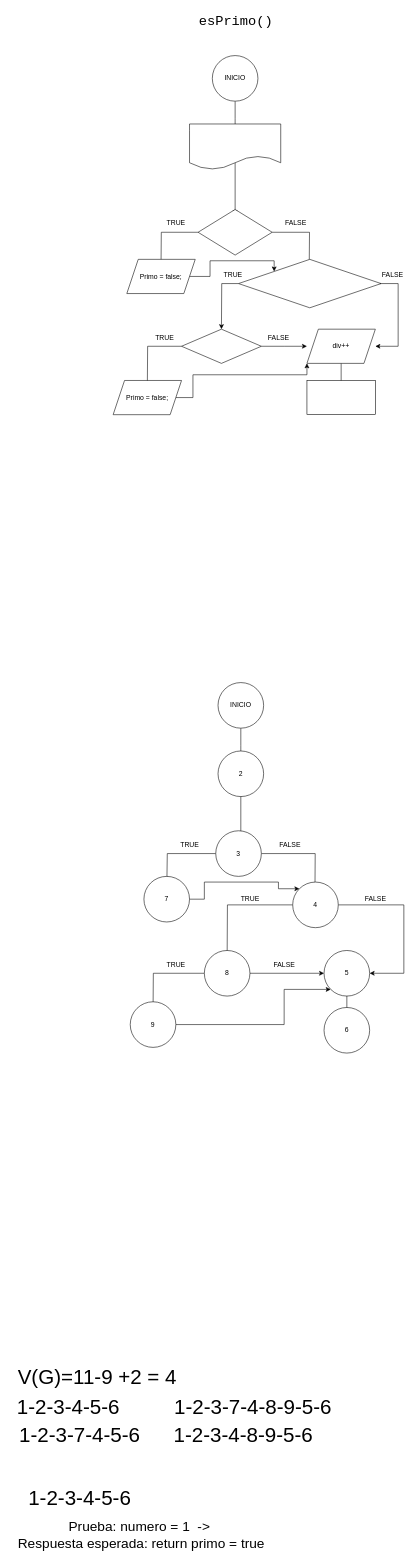
Some shapes in this 419 by 1564 pixel diagram are drawn without their labels. Each missing label, with the box of its shape:
boolean primo = true; int div = 2;: (189, 123, 281, 170)
div <= Math.sqrt(numero) && primo: (238, 259, 381, 308)
numero % div == 0: (181, 329, 261, 363)
primo == 1: (198, 209, 272, 255)
Return primo: (306, 380, 375, 415)
